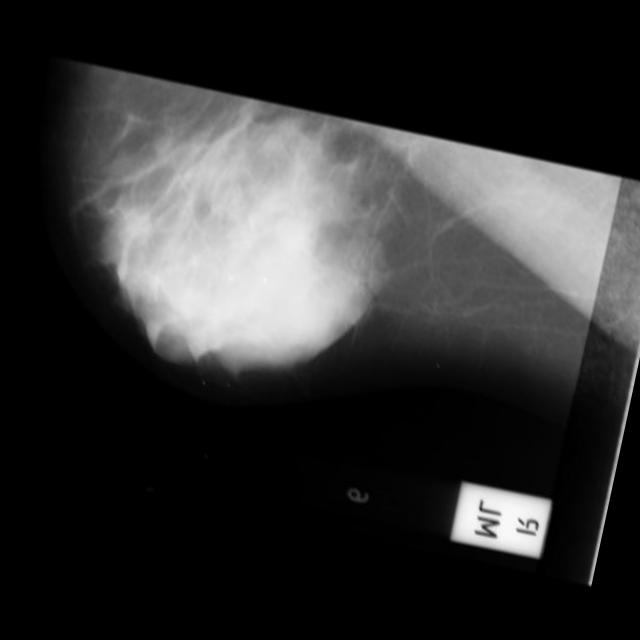CIRC: (126, 245, 228, 346)
